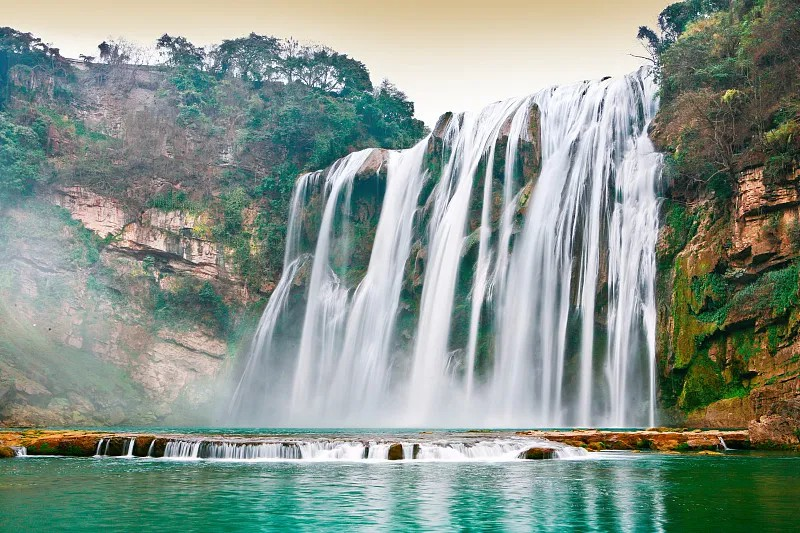Huangguoshu: (227, 65, 664, 428)
